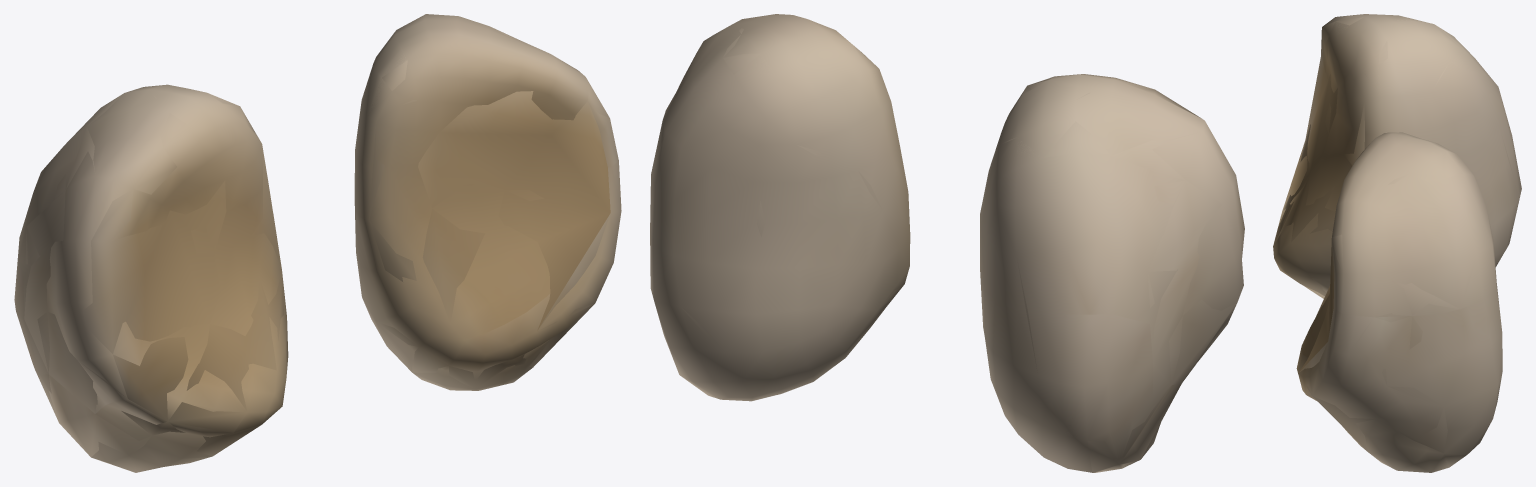
Rendered from BL sesamoidea proximalia.fbx.
3 renders of one model, left to right at view 1: azimuth 30°, elevation 25°; view 2: azimuth 150°, elevation 25°; view 3: azimuth 270°, elevation 25°, orthographic. The views are drawn at different scales.
Parts seen in each view (by area): view 1: BL sesamoidea proximalia, BL sesamoidea proximalia low; view 2: BL sesamoidea proximalia, BL sesamoidea proximalia low; view 3: BL sesamoidea proximalia, BL sesamoidea proximalia low.
Part boxes in pixels (box(x1,y1,x2,y2)): BL sesamoidea proximalia: box(14, 14, 621, 472); BL sesamoidea proximalia low: box(24, 28, 619, 471); BL sesamoidea proximalia: box(650, 14, 1244, 472); BL sesamoidea proximalia low: box(651, 28, 1244, 472); BL sesamoidea proximalia: box(1273, 14, 1521, 472); BL sesamoidea proximalia low: box(1274, 17, 1517, 472).
Size of the model in its own units: 5.43 by 3.54 by 2.54.
Materials: 1 (1 with a texture image).
